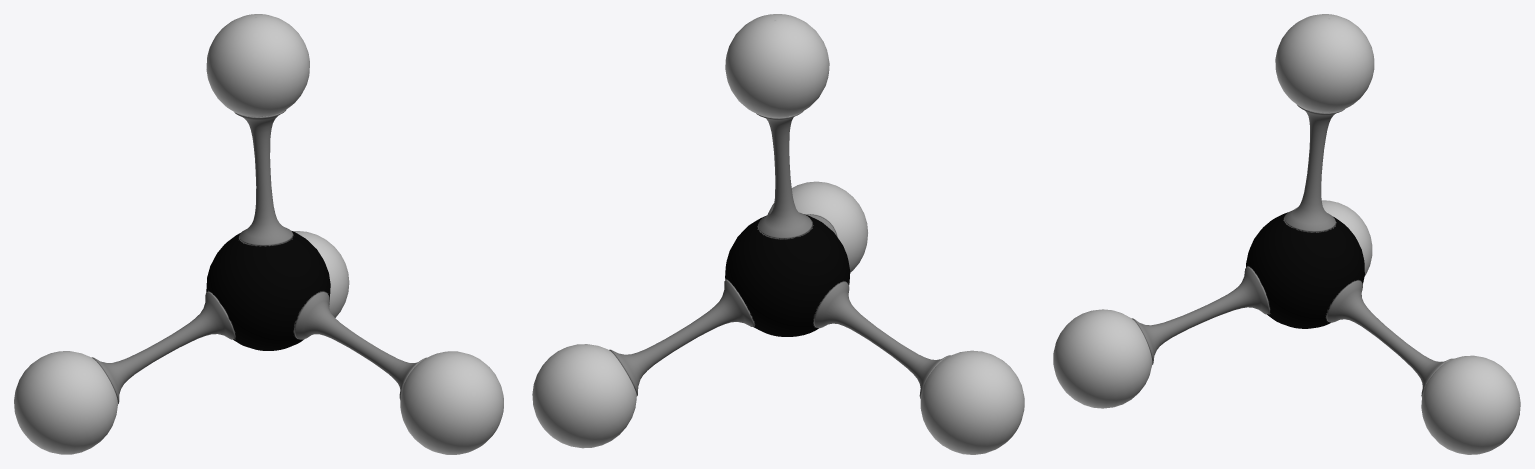
The model's file is methane.glb.
The picture shows the model from 3 angles, left to right: view 1: azimuth 30°, elevation 25°; view 2: azimuth 150°, elevation 25°; view 3: azimuth 270°, elevation 25°; orthographic projection. The views are drawn at different scales.
Parts seen in each view (by area): view 1: mesh_id4, mesh_id12, mesh_id6, mesh_id10, mesh_id9, mesh_id5, mesh_id11, mesh_id8; view 2: mesh_id4, mesh_id6, mesh_id10, mesh_id8, mesh_id12, mesh_id7, mesh_id9, mesh_id5; view 3: mesh_id4, mesh_id6, mesh_id8, mesh_id12, mesh_id11, mesh_id7, mesh_id5, mesh_id10.
Part boxes in pixels (box(x1,y1,x2,y2)): mesh_id4: box(206, 231, 330, 350); mesh_id12: box(400, 351, 503, 454); mesh_id6: box(206, 14, 309, 116); mesh_id10: box(14, 351, 117, 454); mesh_id9: box(91, 291, 235, 403); mesh_id5: box(234, 110, 292, 245); mesh_id11: box(294, 291, 426, 399); mesh_id8: box(294, 231, 349, 317); mesh_id4: box(725, 214, 850, 336); mesh_id6: box(725, 14, 829, 117); mesh_id10: box(920, 350, 1024, 454); mesh_id8: box(532, 344, 636, 448); mesh_id12: box(767, 181, 867, 272); mesh_id7: box(609, 279, 754, 396); mesh_id9: box(813, 281, 950, 398); mesh_id5: box(756, 111, 812, 238); mesh_id4: box(1246, 212, 1364, 328); mesh_id6: box(1275, 14, 1374, 112); mesh_id8: box(1421, 355, 1520, 454); mesh_id12: box(1053, 309, 1152, 408); mesh_id11: box(1132, 266, 1269, 364); mesh_id7: box(1326, 280, 1453, 396); mesh_id5: box(1284, 105, 1344, 232); mesh_id10: box(1293, 200, 1372, 275).
Bounding box in the file's own units: 0.5352 × 0.5065 × 0.5681.
Materials: 9 (9 with a texture image).
